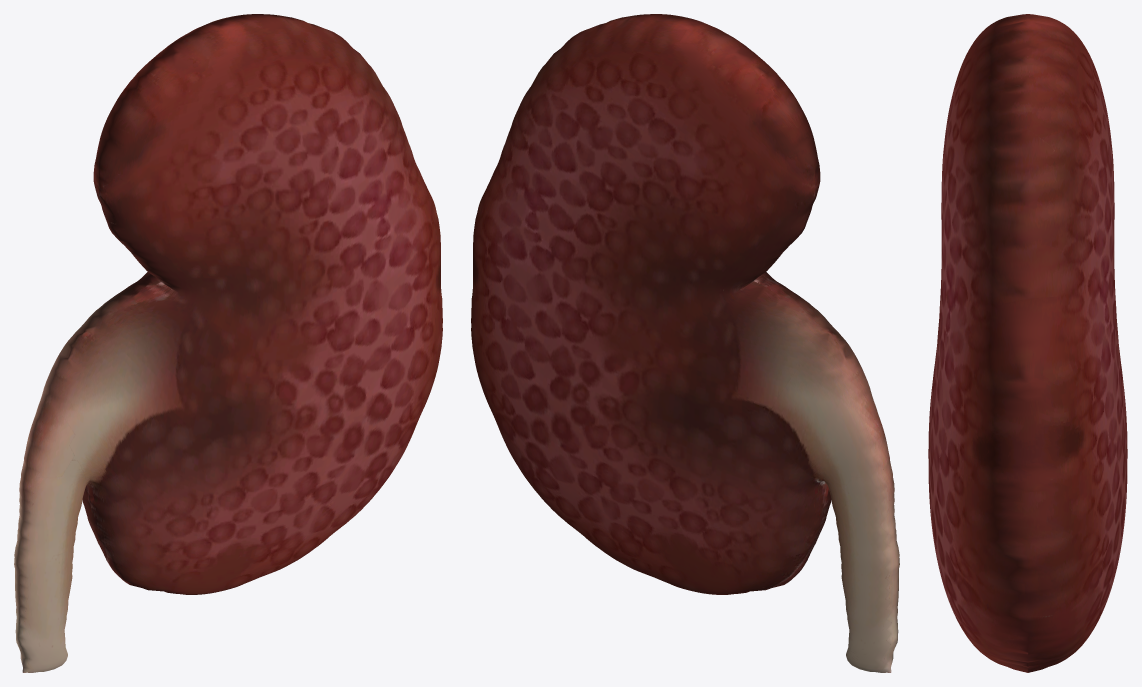
Rendered from Guts_kidney.fbx.
3 renders of one model, left to right at view 1: azimuth 30°, elevation 25°; view 2: azimuth 150°, elevation 25°; view 3: azimuth 270°, elevation 25°, orthographic. The views are drawn at different scales.
Parts seen in each view (by area): view 1: node_id183; view 2: node_id183; view 3: node_id183.
Boxes of the visible parts, bbox=[...] form: node_id183: bbox=[14, 14, 442, 672]; node_id183: bbox=[471, 14, 899, 672]; node_id183: bbox=[928, 14, 1127, 672].
Bounding box in the file's own units: 0.3717 × 0.512 × 0.1362.
Materials: 1 (1 with a texture image).
